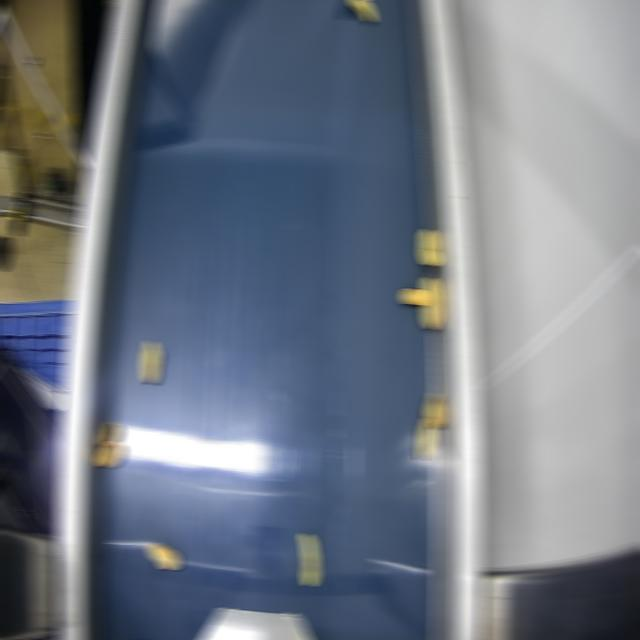Baby Potato: (301, 533, 318, 586), (148, 543, 177, 570), (423, 277, 438, 329), (141, 340, 158, 383), (419, 229, 438, 265), (97, 440, 120, 467), (418, 418, 433, 459), (425, 392, 442, 427), (350, 0, 373, 23), (99, 420, 116, 447), (401, 288, 424, 305)
